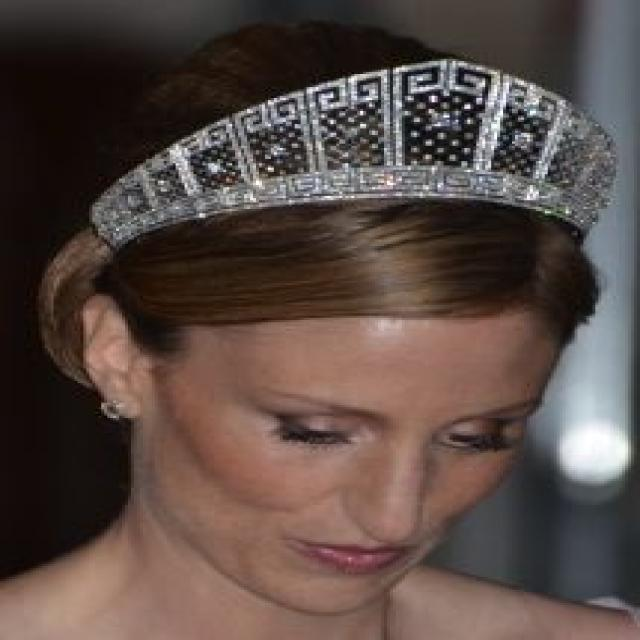Earring: (100, 385, 129, 433)
